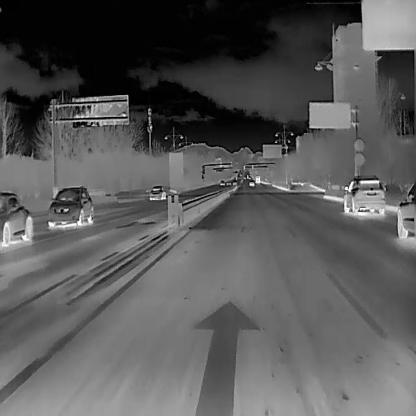car: (46, 184, 95, 225), (342, 174, 386, 217), (0, 190, 34, 245), (397, 180, 416, 238), (149, 183, 165, 199), (255, 175, 260, 183), (248, 180, 254, 186), (232, 179, 237, 185), (219, 180, 224, 185), (226, 180, 230, 185)
